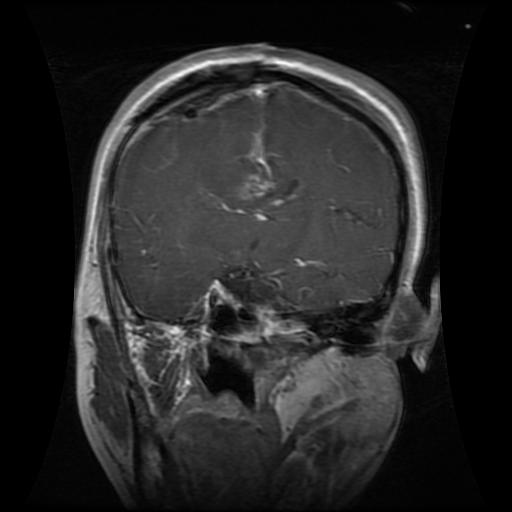Gliomia_tumour: (203, 117, 303, 222)
